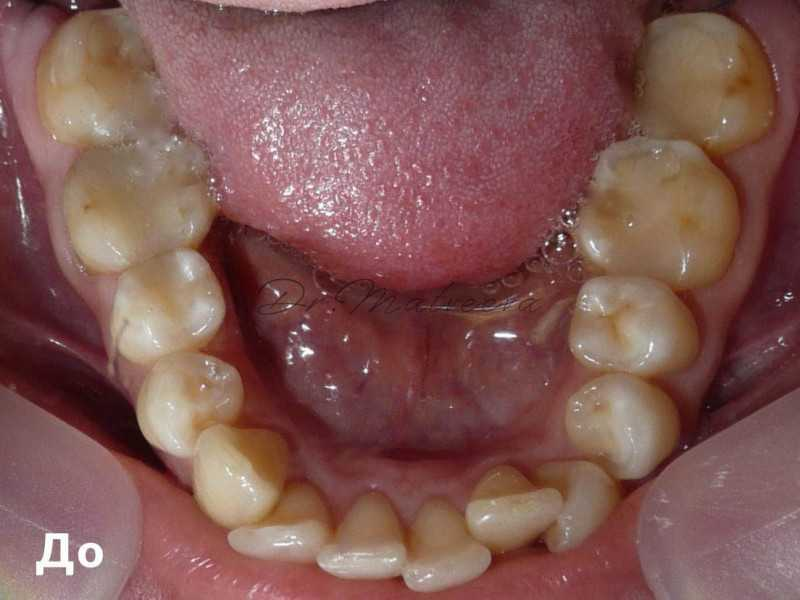LL1BC_decay: (555, 375, 677, 476)
LL1M_healthy: (580, 139, 739, 297)
LL2BC_decay: (561, 273, 700, 384)
LL2M_decay: (619, 1, 792, 142)
LLCI_healthy: (403, 496, 492, 590)
LLC_healthy: (542, 458, 619, 557)
LLLI_healthy: (464, 455, 562, 551)
LR1BC_decay: (133, 350, 247, 456)
LR1M_decay: (53, 134, 219, 269)
LR2BC_decay: (101, 243, 229, 366)
LR2M_decay: (25, 14, 182, 137)
LRCI_healthy: (316, 492, 407, 580)
LRC_healthy: (185, 423, 293, 523)
LRLI_healthy: (223, 480, 335, 559)
